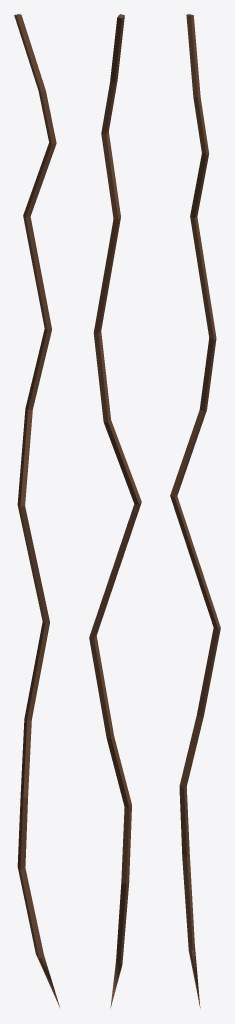
File: Liana10.FBX
3 renders of one model, left to right at view 1: azimuth 30°, elevation 25°; view 2: azimuth 150°, elevation 25°; view 3: azimuth 330°, elevation 25°, orthographic. The views are drawn at different scales.
Visible parts, largest first — view 1: Liana10; view 2: Liana10; view 3: Liana10.
Part boxes in pixels (x1,y1,x2,y2): Liana10: [14, 14, 59, 1007]; Liana10: [89, 14, 141, 1008]; Liana10: [170, 14, 220, 1007].
Size of the model in its own units: 0.5117 by 12.31 by 0.4204.
